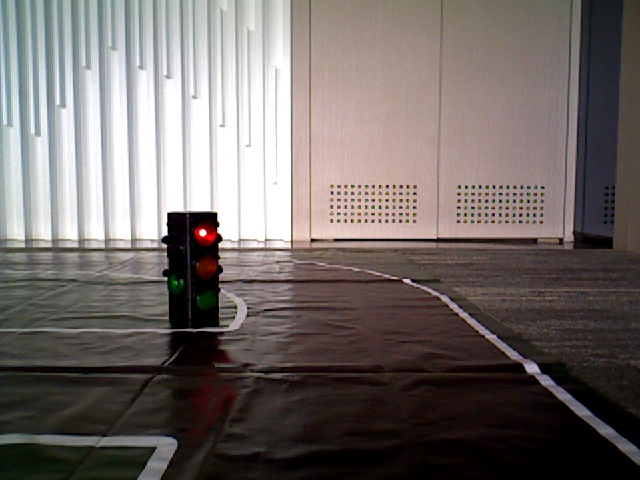red: (180, 212, 217, 310)
